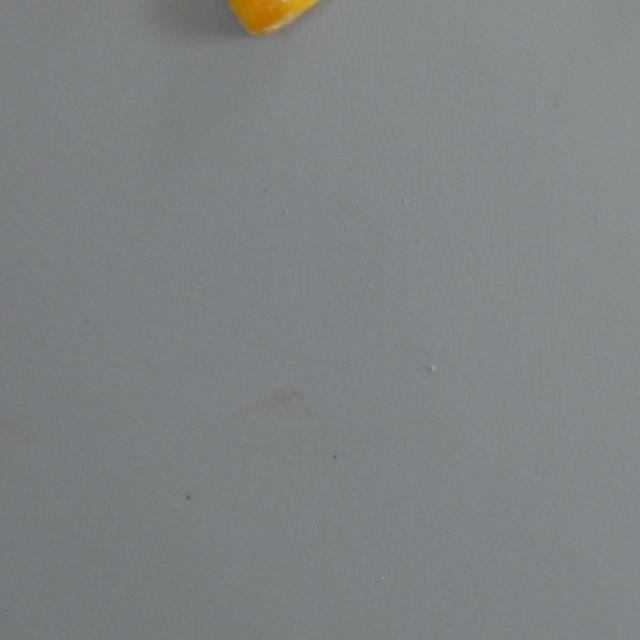pelicula: (225, 0, 331, 36)
